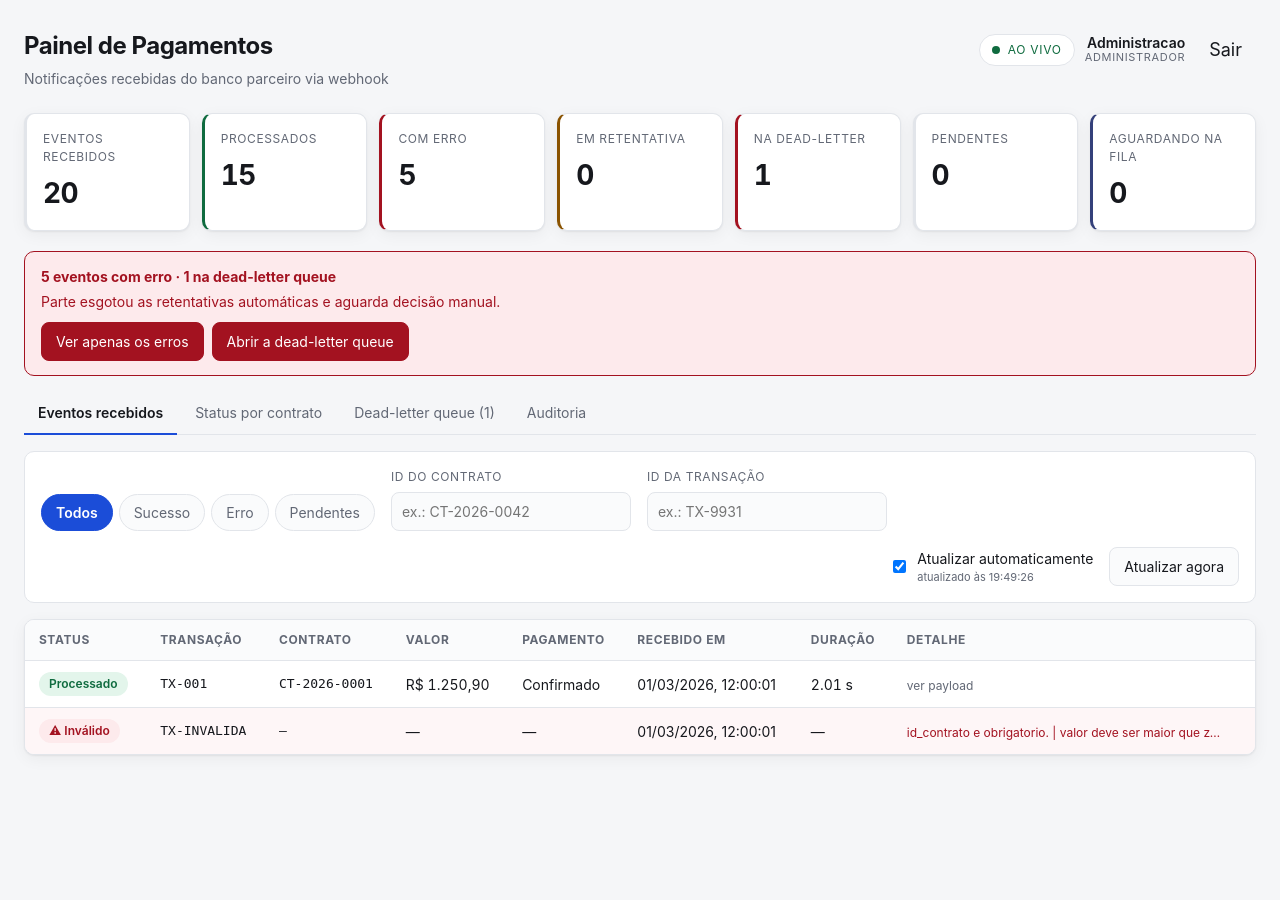
Scenario: App › reprocessa a carta e mostra a confirmacao
Expected: the heading "Painel de Pagamentos" is shown, [24,31,273,60]
Click the button "Dead-letter queue (1)" at (424,414), box [340,392,509,435]
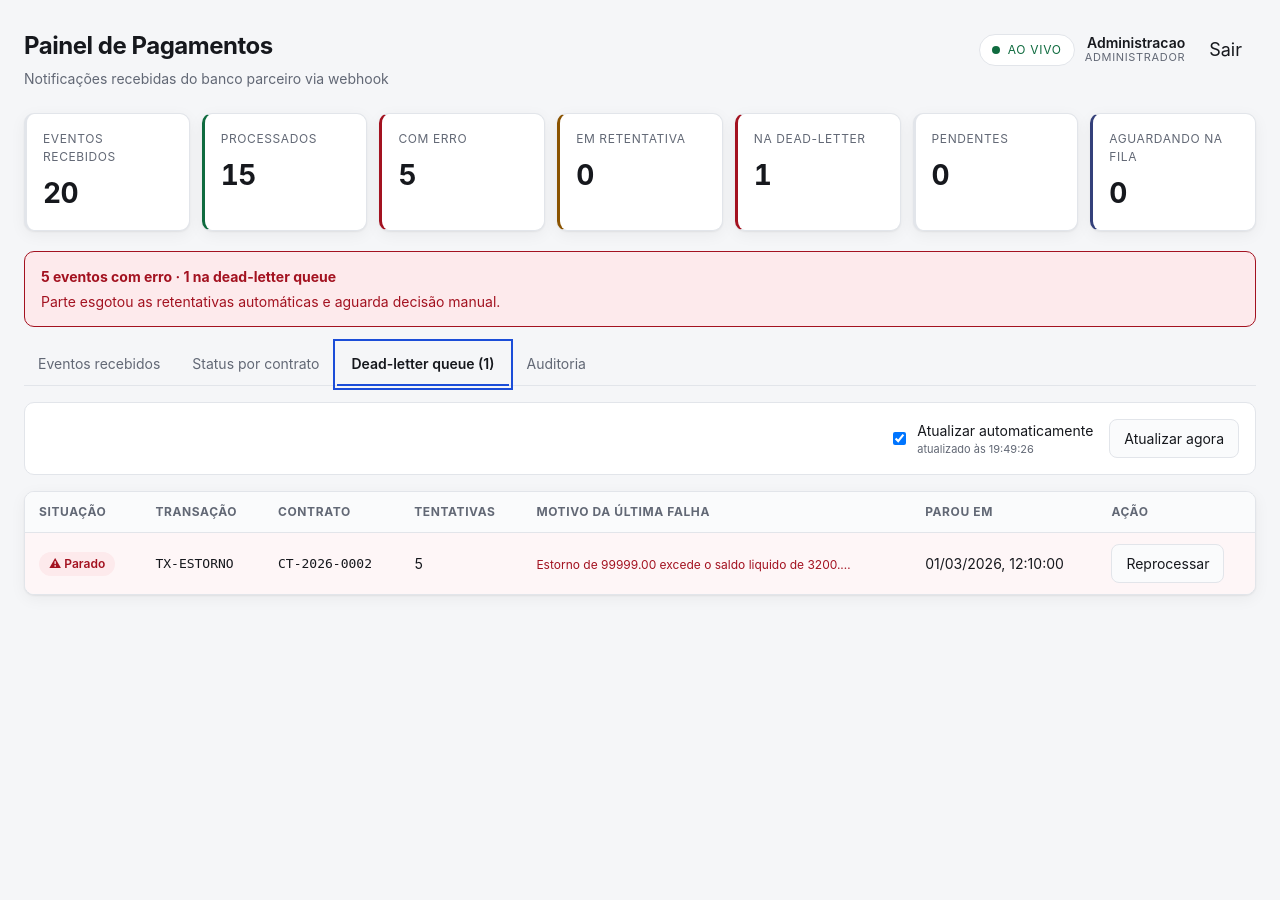
Click the button "Reprocessar" at (1168,564), box [1111,544,1224,583]
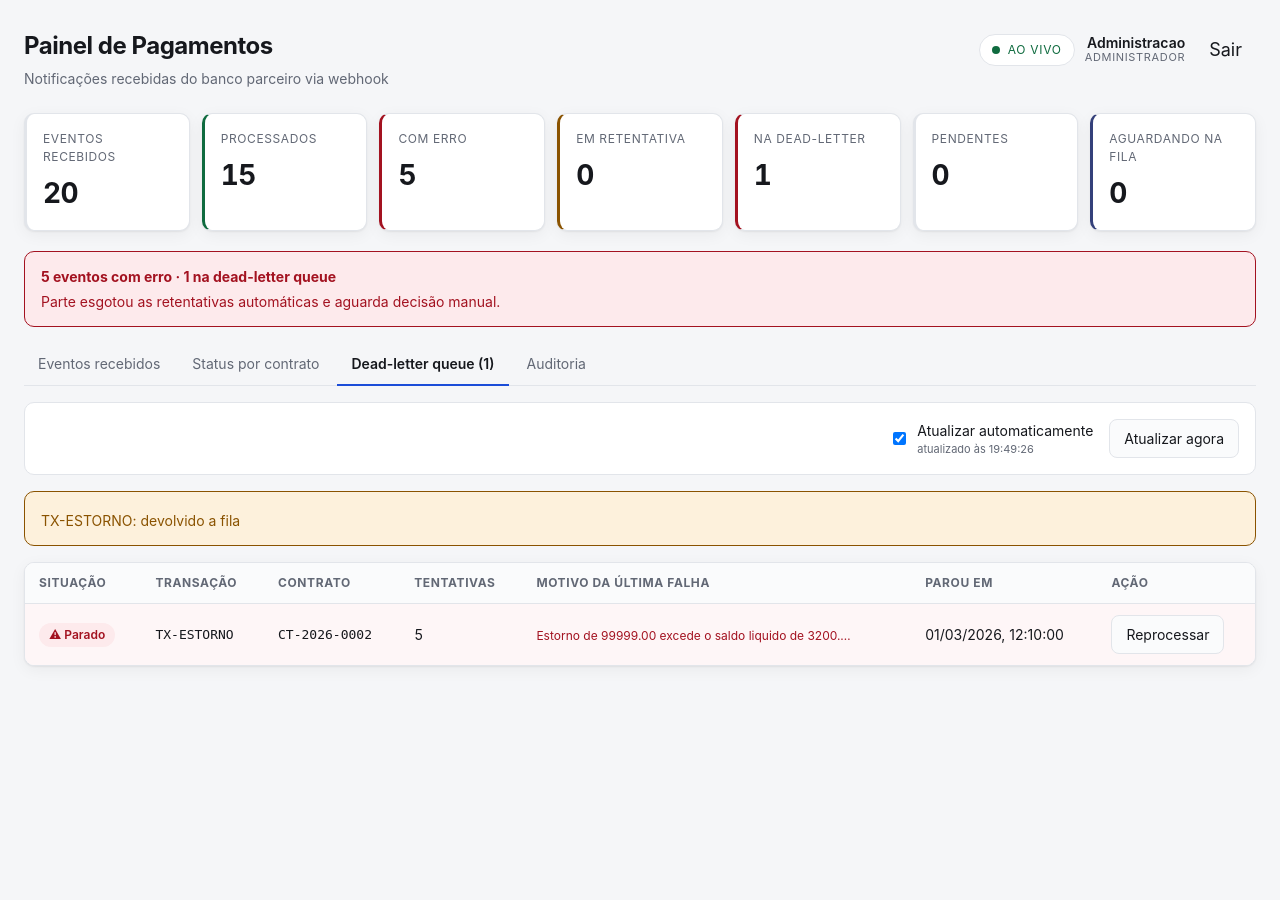
Expected: the text "TX-ESTORNO: devolvido a fila" is shown, [41,512,240,529]
